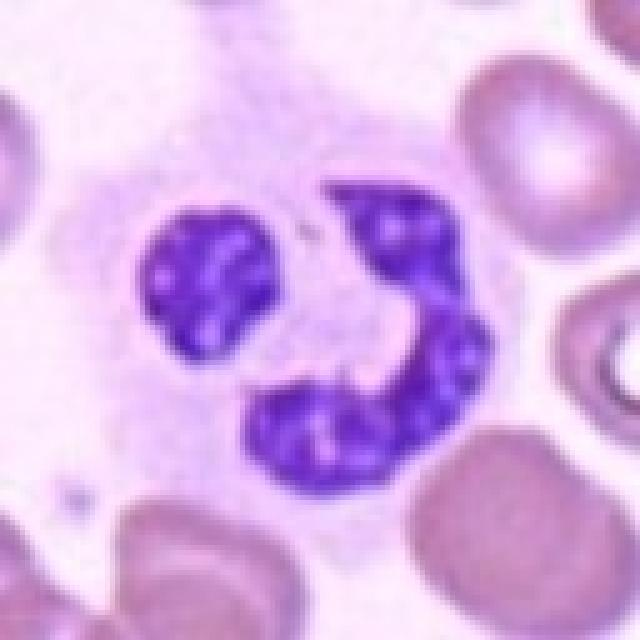neutro: (78, 78, 551, 542)
